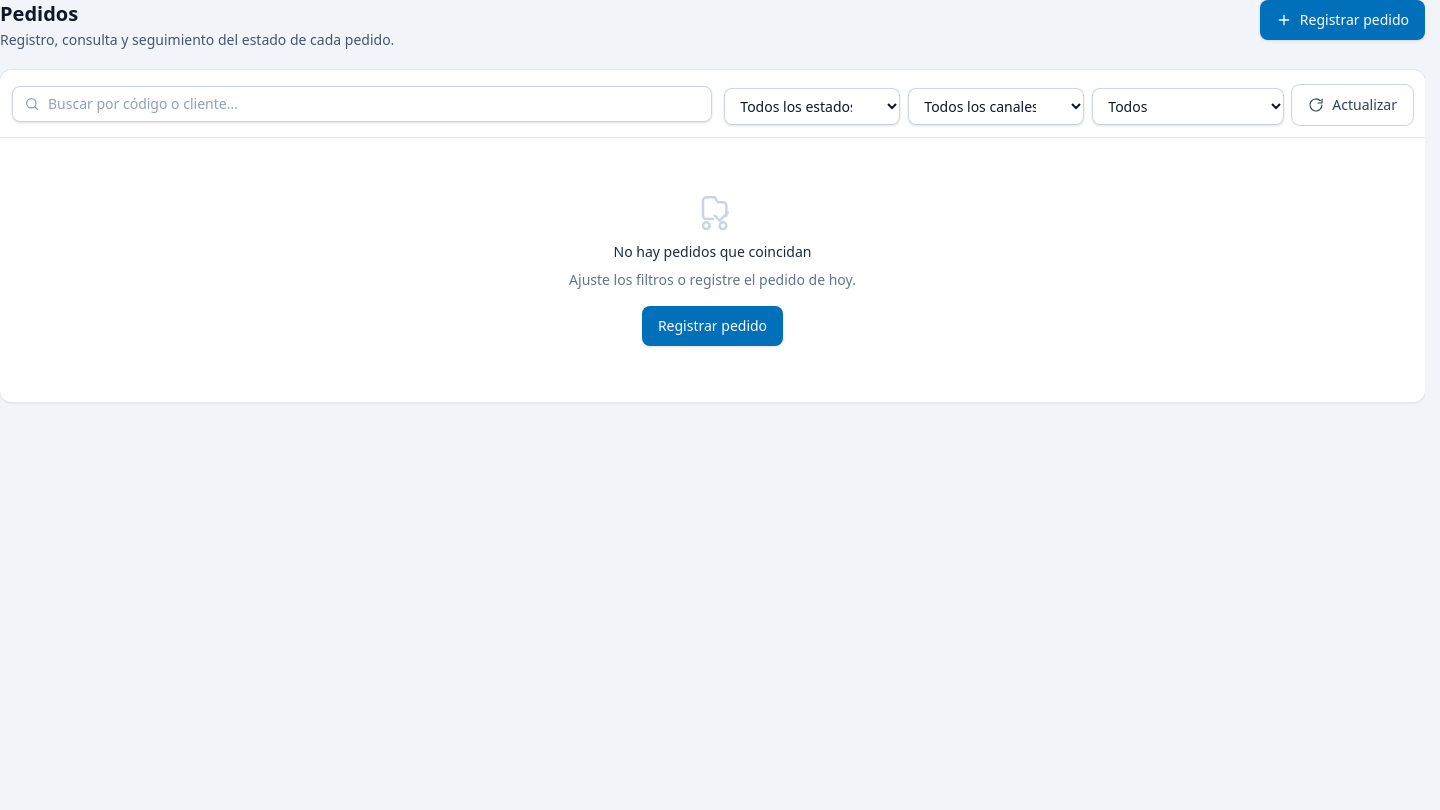
Scenario: autocompletado de cliente › dice cuando no encuentra a nadie
Click the 1st button "Registrar pedido". click: (1342,20)
box: [1260, 0, 1425, 40]
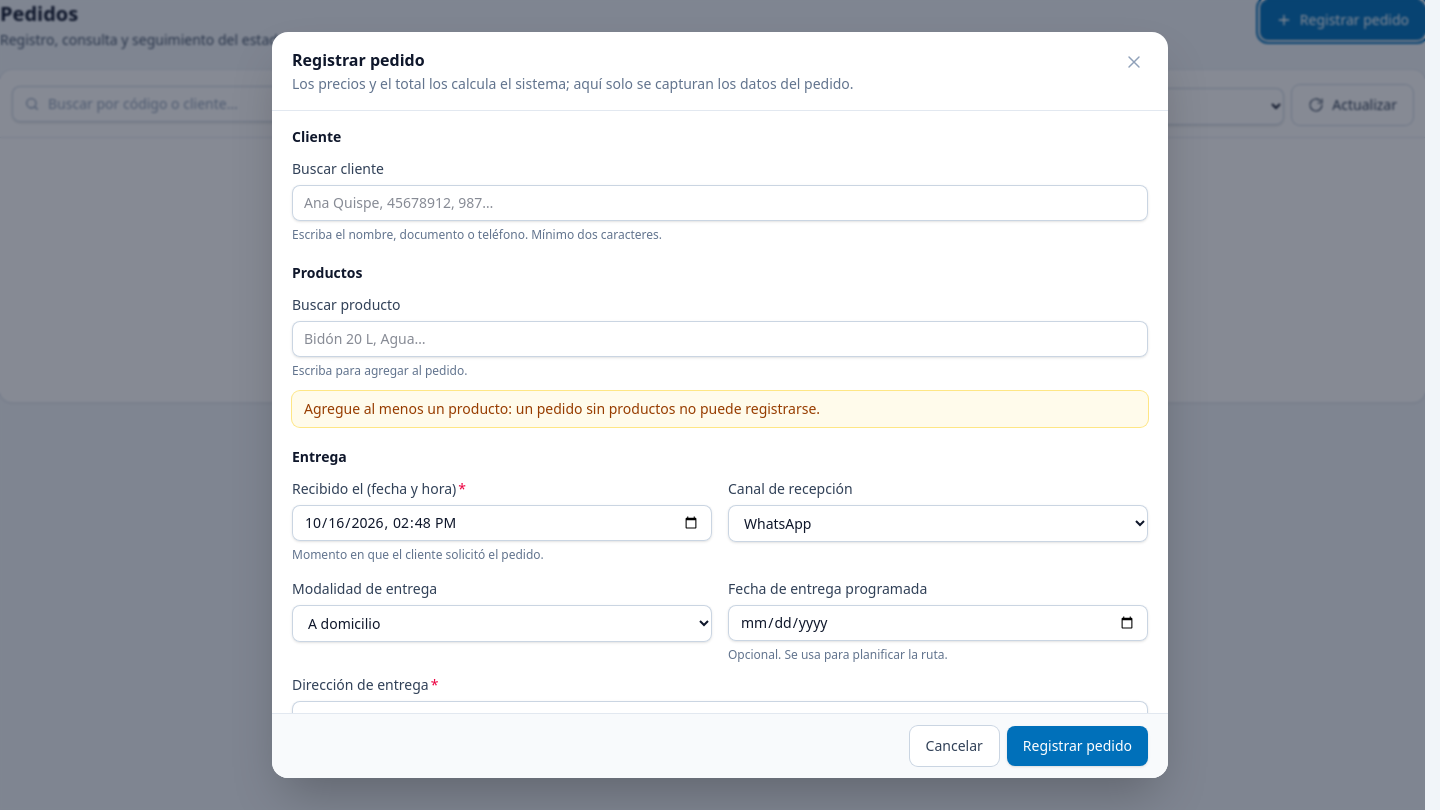
Type "Zzz" into the field labelled "Buscar cliente". click: (720,203)
box: [292, 185, 1148, 221]
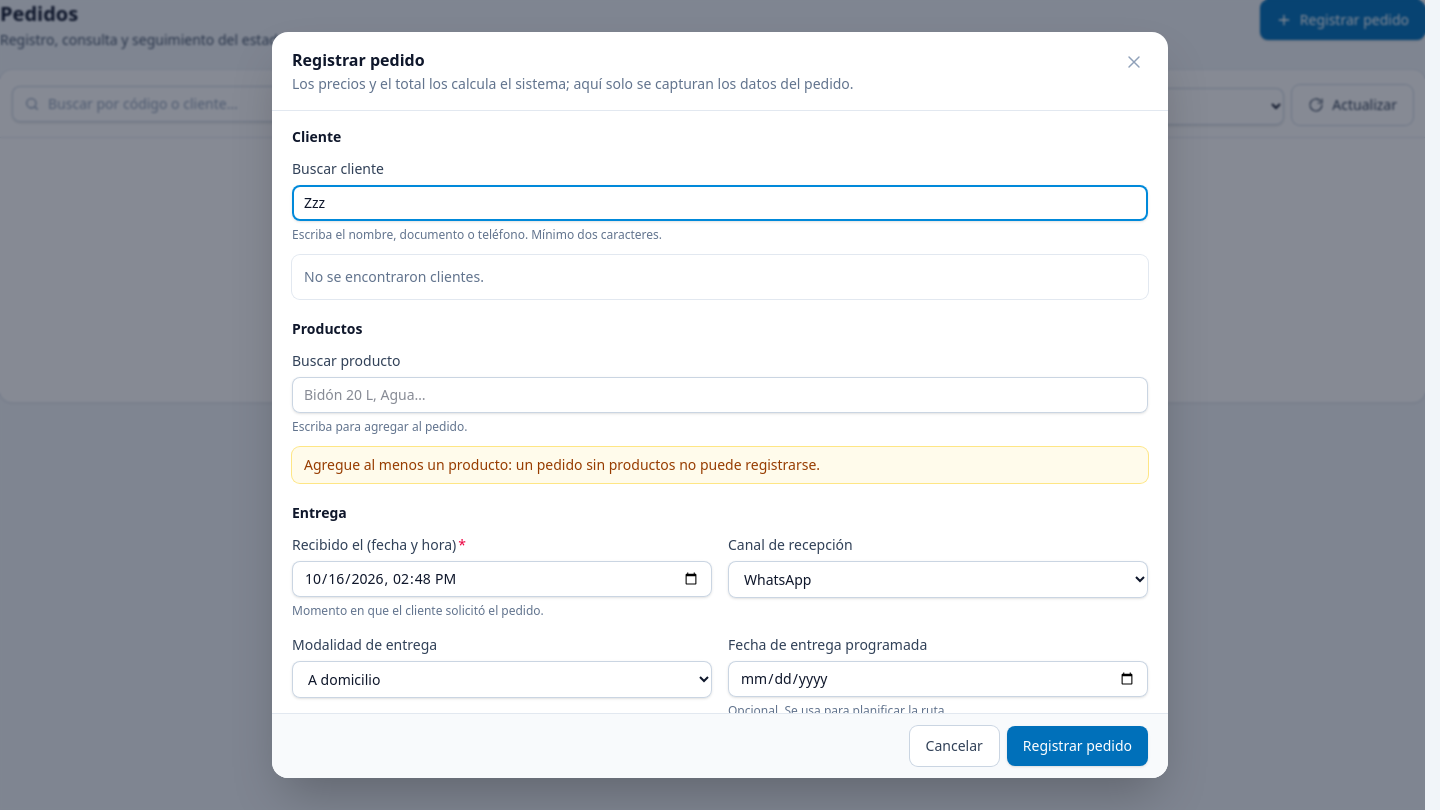
Expected: the list item "No se encontraron clientes." is shown, [304, 267, 484, 286]
